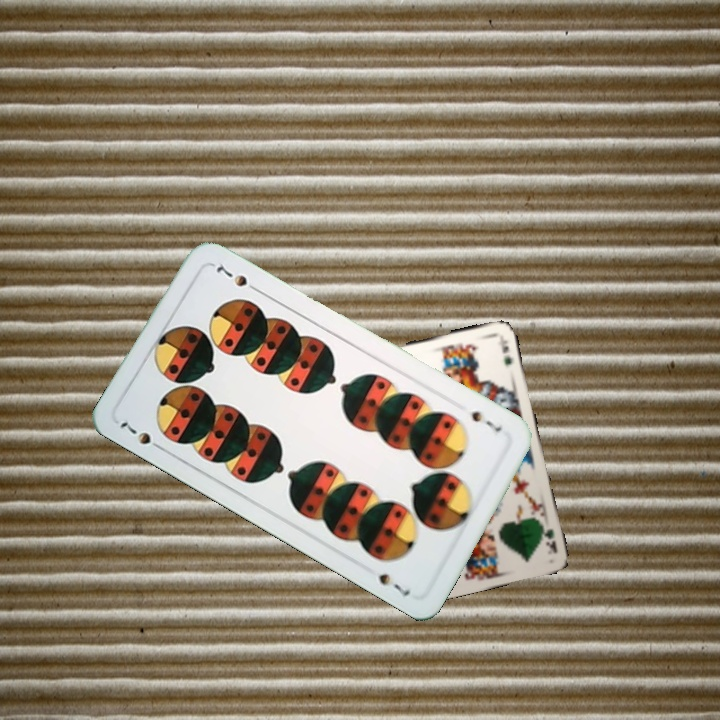GK: (537, 518, 559, 555)
S7: (116, 417, 167, 454), (467, 406, 505, 435)
